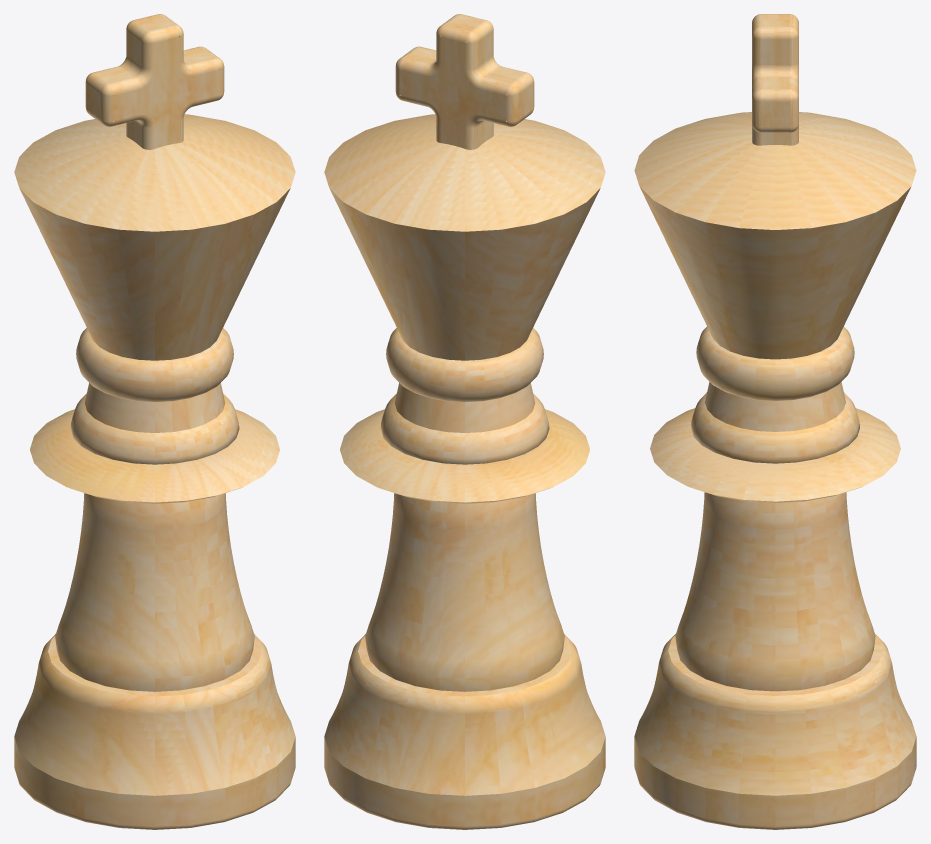
The model's file is kingW.dae.
3 renders of one model, left to right at view 1: azimuth 30°, elevation 25°; view 2: azimuth 150°, elevation 25°; view 3: azimuth 270°, elevation 25°, orthographic.
Parts seen in each view (by area): view 1: group_1, group_0 (×2); view 2: group_1, group_0 (×2); view 3: group_1, group_0 (×2).
Part boxes in pixels (x1,y1,x2,y2): group_1: [14, 114, 295, 829]; group_0 (×2): [85, 14, 224, 149]; group_1: [324, 114, 605, 829]; group_0 (×2): [395, 14, 534, 149]; group_1: [634, 112, 916, 829]; group_0 (×2): [752, 14, 798, 145].
Bounding box in the file's own units: 23.62 × 23.62 × 69.34.
Materials: 1 (1 with a texture image).
